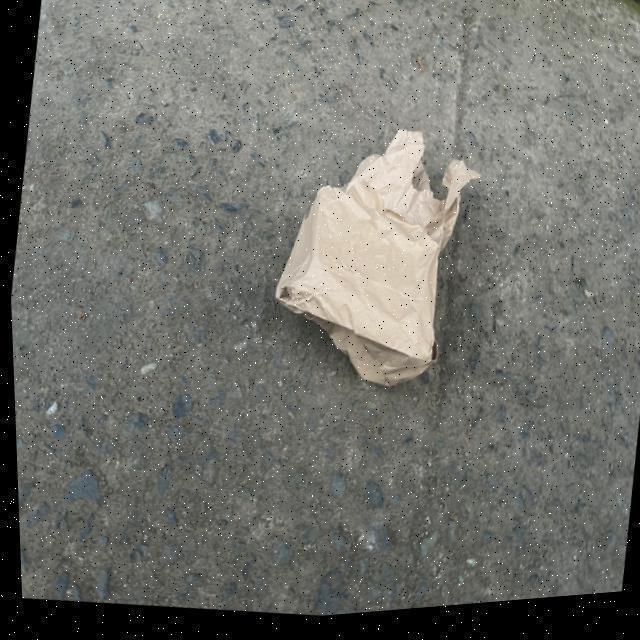Paper_Bag: (256, 113, 487, 407)
